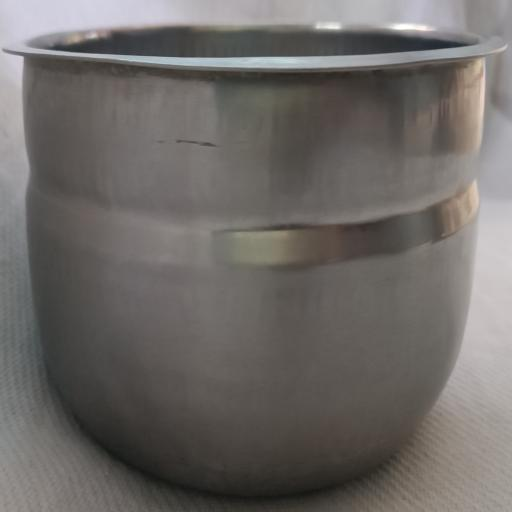vessel: (7, 23, 504, 495)
